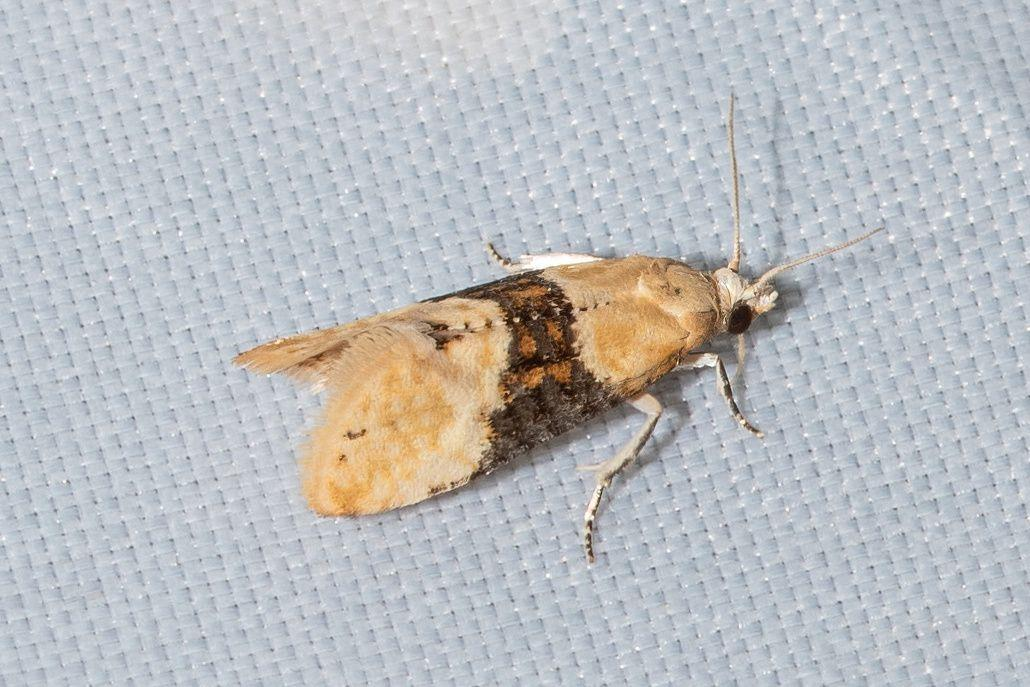Eupoecilia Ambiguella: (228, 87, 888, 567)
